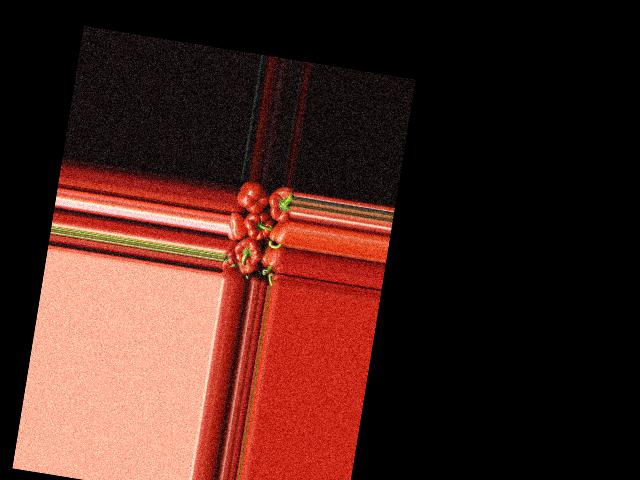bell_pepper: (227, 210, 247, 241)
